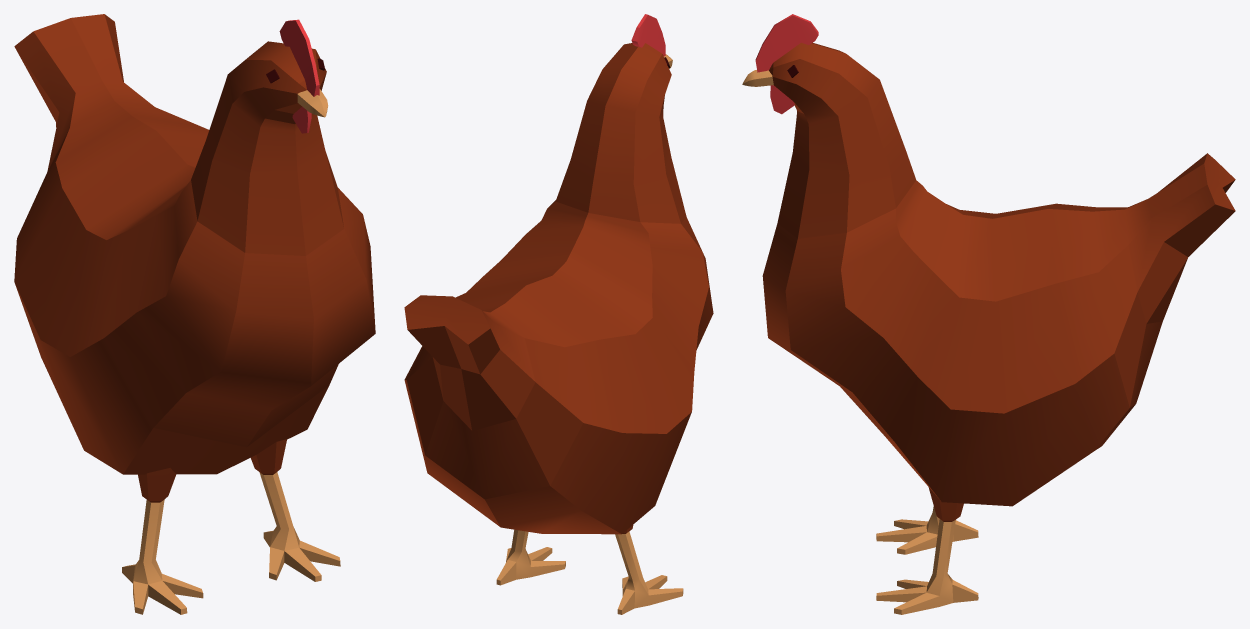
Rendered from Mesh_Hen.gltf.
3 views of the same model, side by side, from view 1: azimuth 30°, elevation 25°; view 2: azimuth 150°, elevation 25°; view 3: azimuth 270°, elevation 25° (orthographic). The views are drawn at different scales.
Visible parts, largest first — view 1: node-0; view 2: node-0; view 3: node-0.
Part boxes in pixels (x1,y1,x2,y2): node-0: [14, 14, 375, 614]; node-0: [404, 14, 713, 614]; node-0: [742, 14, 1235, 614].
Bounding box in the file's own units: 36.96 × 77.08 × 62.1.
Materials: 1 (1 with a texture image).
